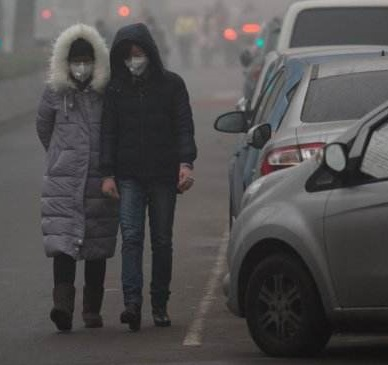person: (105, 22, 199, 332), (35, 20, 116, 335), (144, 16, 172, 66), (174, 10, 197, 68), (199, 13, 217, 68)
